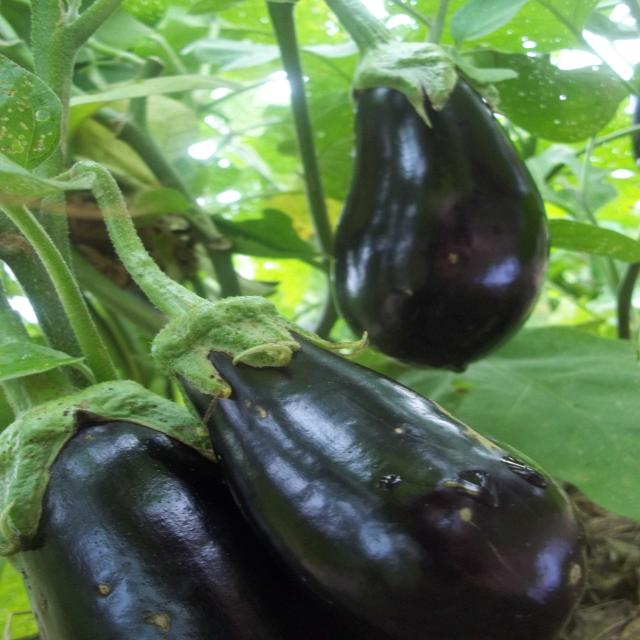Eggplant-r1Ob: (67, 162, 582, 640), (2, 380, 385, 640), (327, 0, 548, 370)
